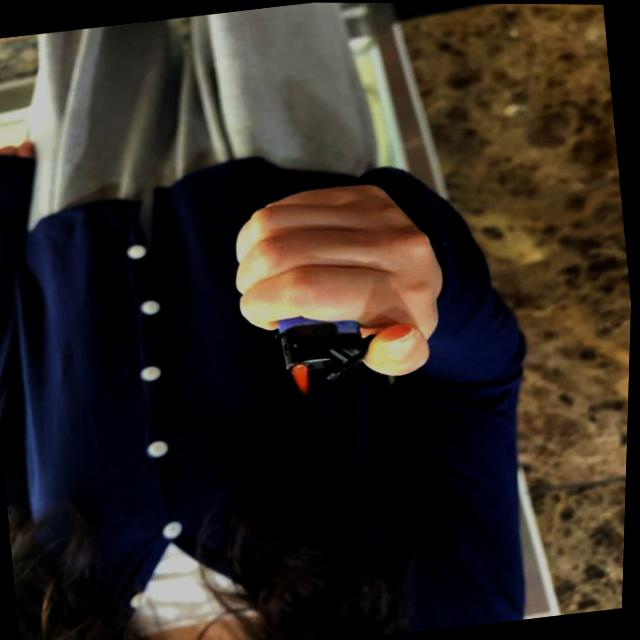helmet: (290, 361, 316, 394)
